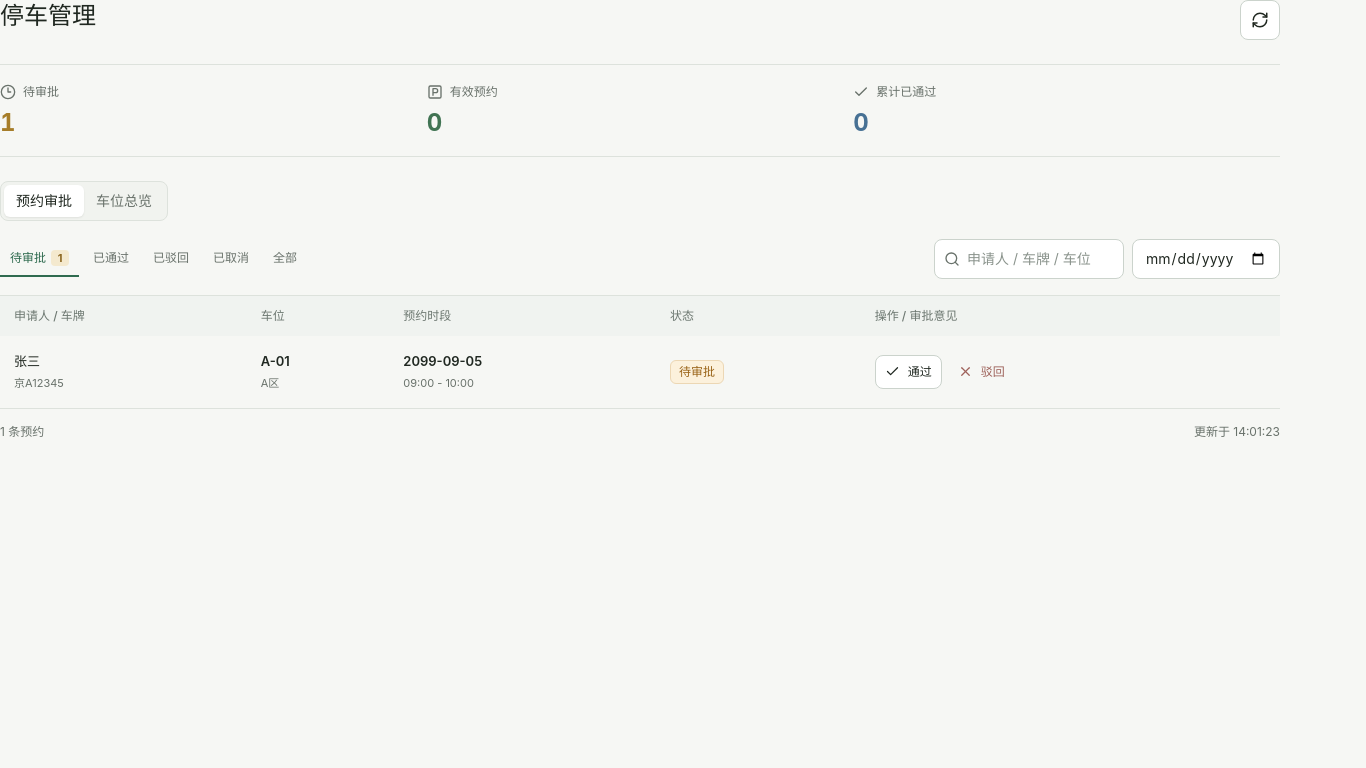
property parking approval › approves a pending application and updates the pending queue
Expected: the text "京A12345" is shown, [14,376,64,390]
Step 1. Click the button with aria-label "通过 A-01 的预约申请" → [908, 372], box [875,355,942,389]
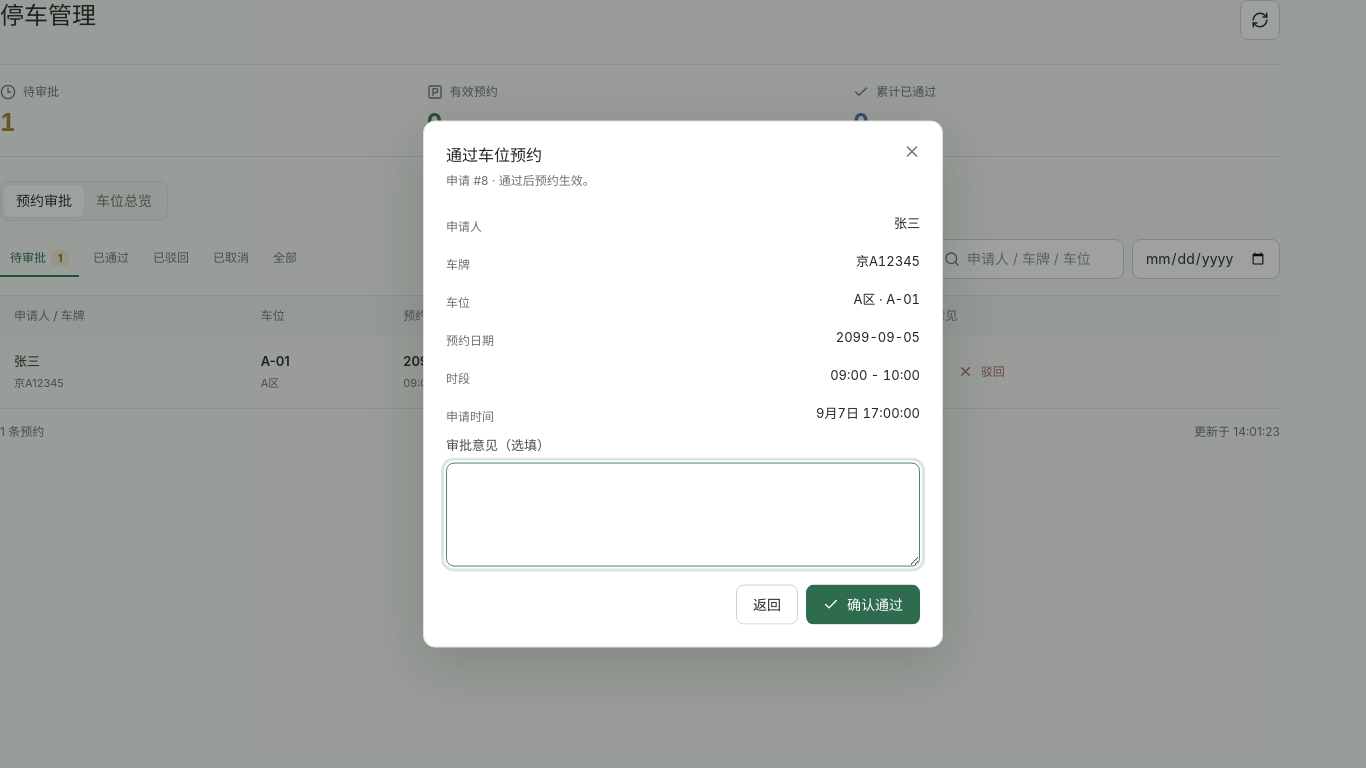
Now the text "张三" is shown, box [894,214,920,240]
Step 2. Click the button "确认通过" → [863, 604], box [806,584,920,624]
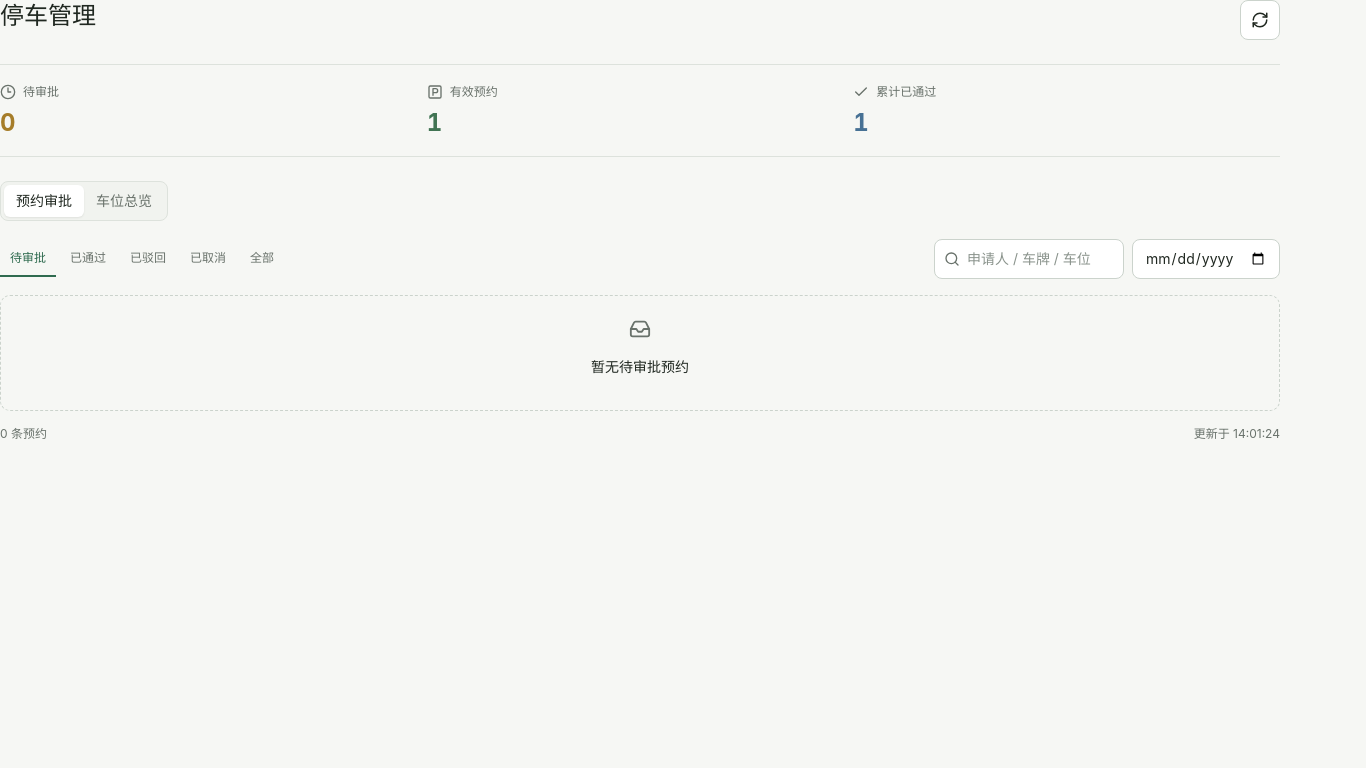
Now the text "暂无待审批预约" is shown, box [591,358,689,375]
